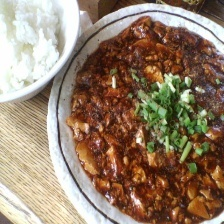rice: (0, 1, 66, 93)
